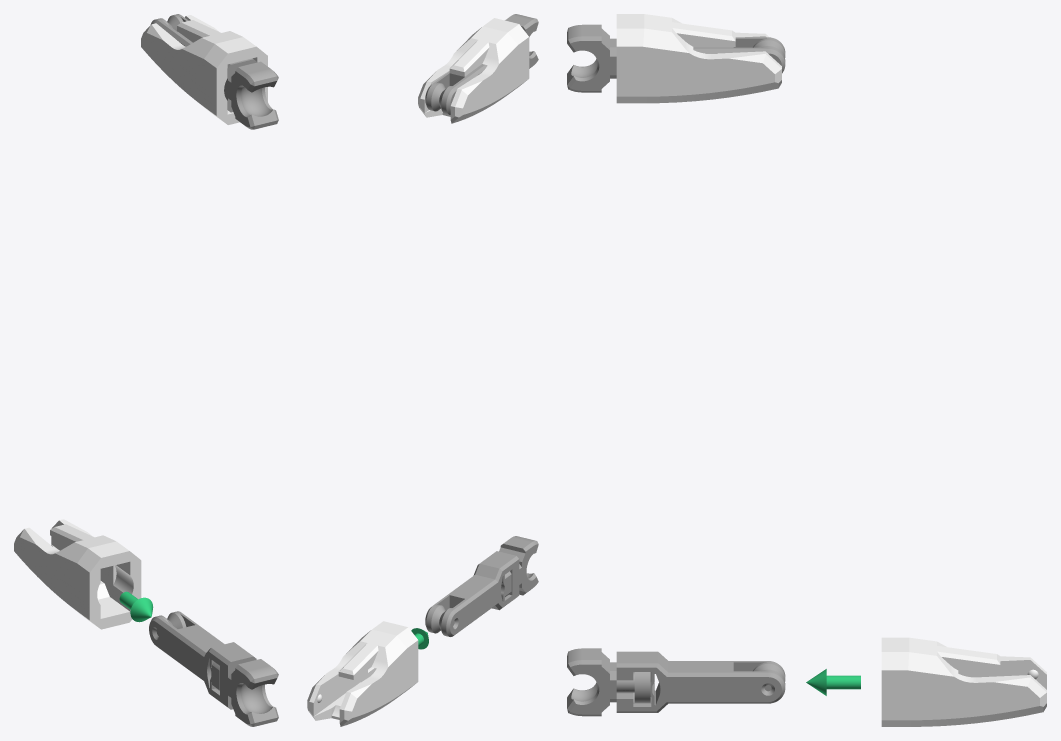
The model's file is upper_leg_b.glb.
The picture shows the model from 3 angles, left to right: view 1: azimuth 30°, elevation 25°; view 2: azimuth 150°, elevation 25°; view 3: azimuth 270°, elevation 25°; orthographic projection. The views are drawn at different scales.
Visible parts, largest first — view 1: Body1.009, Body1.006, Body1.008, Body1.007, Body1.004, Body1.005, Arrow.001; view 2: Body1.009, Body1.006, Body1.008, Body1.007, Body1.005, Body1.004; view 3: Body1.009, Body1.006, Body1.008, Body1.007, Body1.004, Body1.005, Arrow.001.
Boxes of the visible parts, x1=… form: Body1.009: x1=14, y1=519, x2=141, y2=629; Body1.006: x1=141, y1=15, x2=267, y2=124; Body1.008: x1=149, y1=611, x2=256, y2=709; Body1.007: x1=212, y1=659, x2=278, y2=726; Body1.004: x1=228, y1=61, x2=278, y2=129; Body1.005: x1=150, y1=14, x2=256, y2=112; Arrow.001: x1=119, y1=591, x2=153, y2=622; Body1.009: x1=307, y1=621, x2=418, y2=726; Body1.006: x1=418, y1=18, x2=529, y2=123; Body1.008: x1=425, y1=551, x2=519, y2=636; Body1.007: x1=499, y1=536, x2=538, y2=596; Body1.005: x1=425, y1=64, x2=487, y2=114; Body1.004: x1=505, y1=14, x2=538, y2=68; Body1.009: x1=881, y1=637, x2=1046, y2=726; Body1.006: x1=616, y1=14, x2=781, y2=103; Body1.008: x1=616, y1=651, x2=785, y2=712; Body1.007: x1=567, y1=648, x2=650, y2=716; Body1.004: x1=567, y1=24, x2=616, y2=92; Body1.005: x1=693, y1=37, x2=785, y2=73; Arrow.001: x1=806, y1=669, x2=860, y2=695.
Bounding box in the file's own units: 9 × 112 × 69.72.
